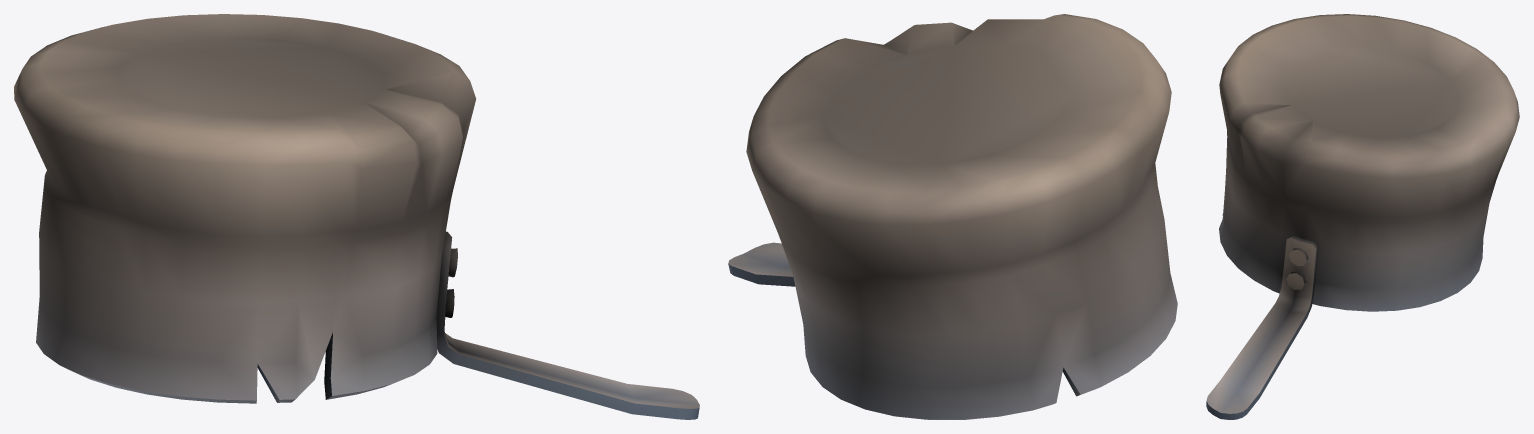
The model's file is Cap_Ladle.gltf.
3 renders of one model, left to right at view 1: azimuth 30°, elevation 25°; view 2: azimuth 150°, elevation 25°; view 3: azimuth 270°, elevation 25°, orthographic. The views are drawn at different scales.
Visible parts, largest first — view 1: Cap_Ladle; view 2: Cap_Ladle; view 3: Cap_Ladle.
Part boxes in pixels (left/top/right/bottom): Cap_Ladle: left=14, top=14, right=699, bottom=419; Cap_Ladle: left=728, top=14, right=1177, bottom=419; Cap_Ladle: left=1206, top=14, right=1519, bottom=419.
Bounding box in the file's own units: 1.44 × 0.93 × 1.09.
1 material, 1 textured.
